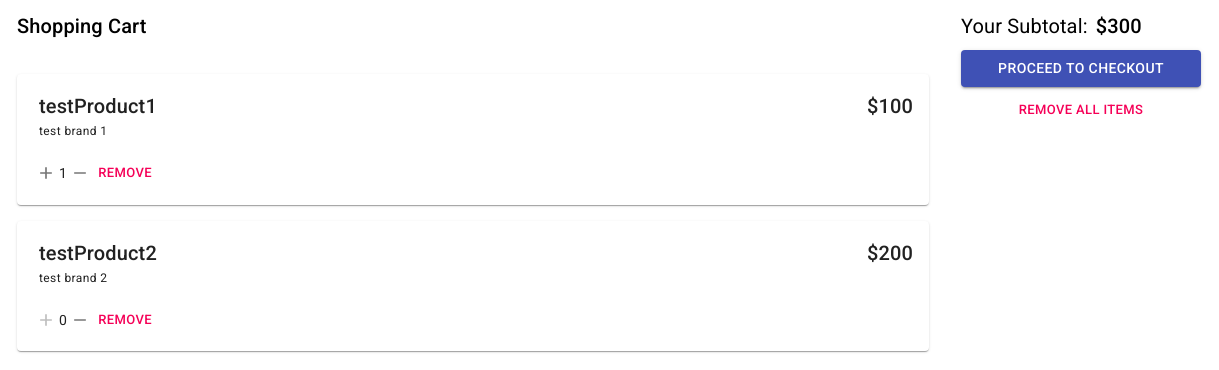
it: CartDetail tests › Cart is not empty › Reset Button resets products
The width and height of the screenshot is (1219, 370).
Click the button with test id "reset-button".
click(1081, 110)  # box [961, 94, 1201, 125]
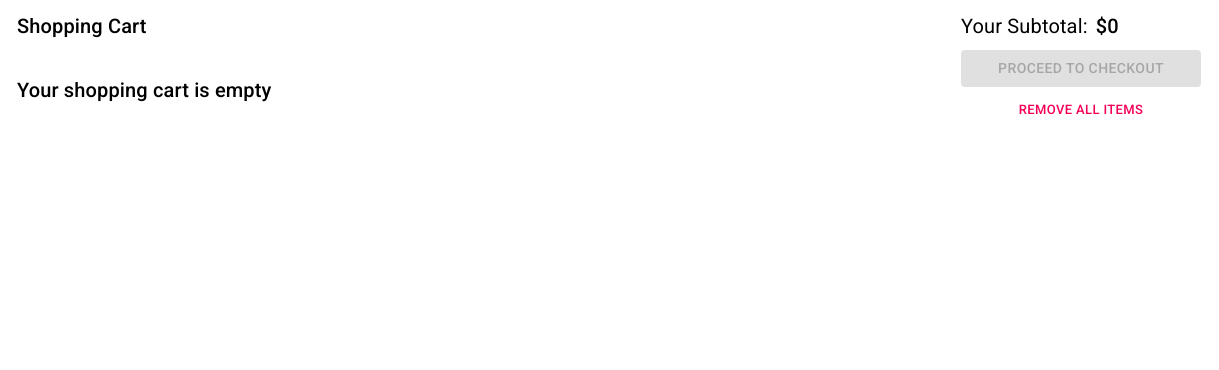
Expected: the heading "testProduct" is gone
